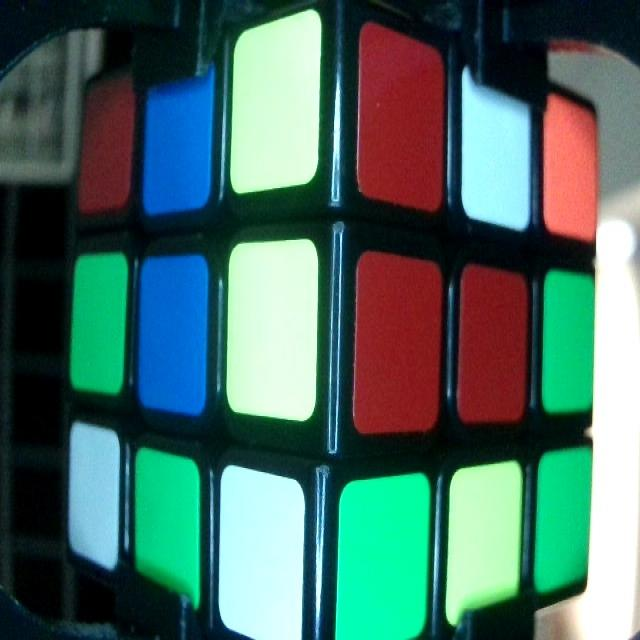b: (142, 258, 205, 413), (148, 74, 212, 206)
g: (345, 482, 428, 639), (344, 486, 427, 640), (136, 455, 198, 599), (540, 452, 592, 588), (74, 255, 124, 389), (547, 272, 595, 406)
o: (546, 96, 602, 238)
r: (361, 28, 442, 203), (359, 250, 438, 426), (463, 268, 526, 419), (82, 82, 132, 202)
w: (220, 469, 302, 635), (463, 71, 525, 229), (72, 424, 116, 559)
y: (232, 247, 318, 419), (234, 30, 319, 180), (452, 472, 522, 620)
